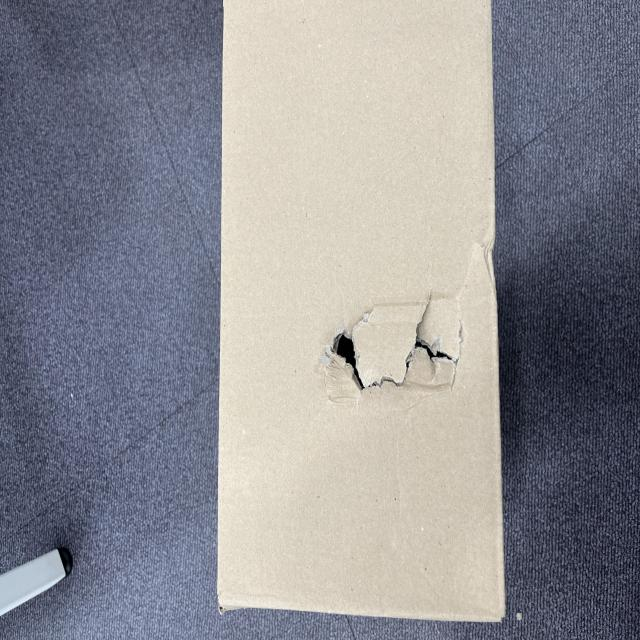damaged: (175, 432, 273, 620)
